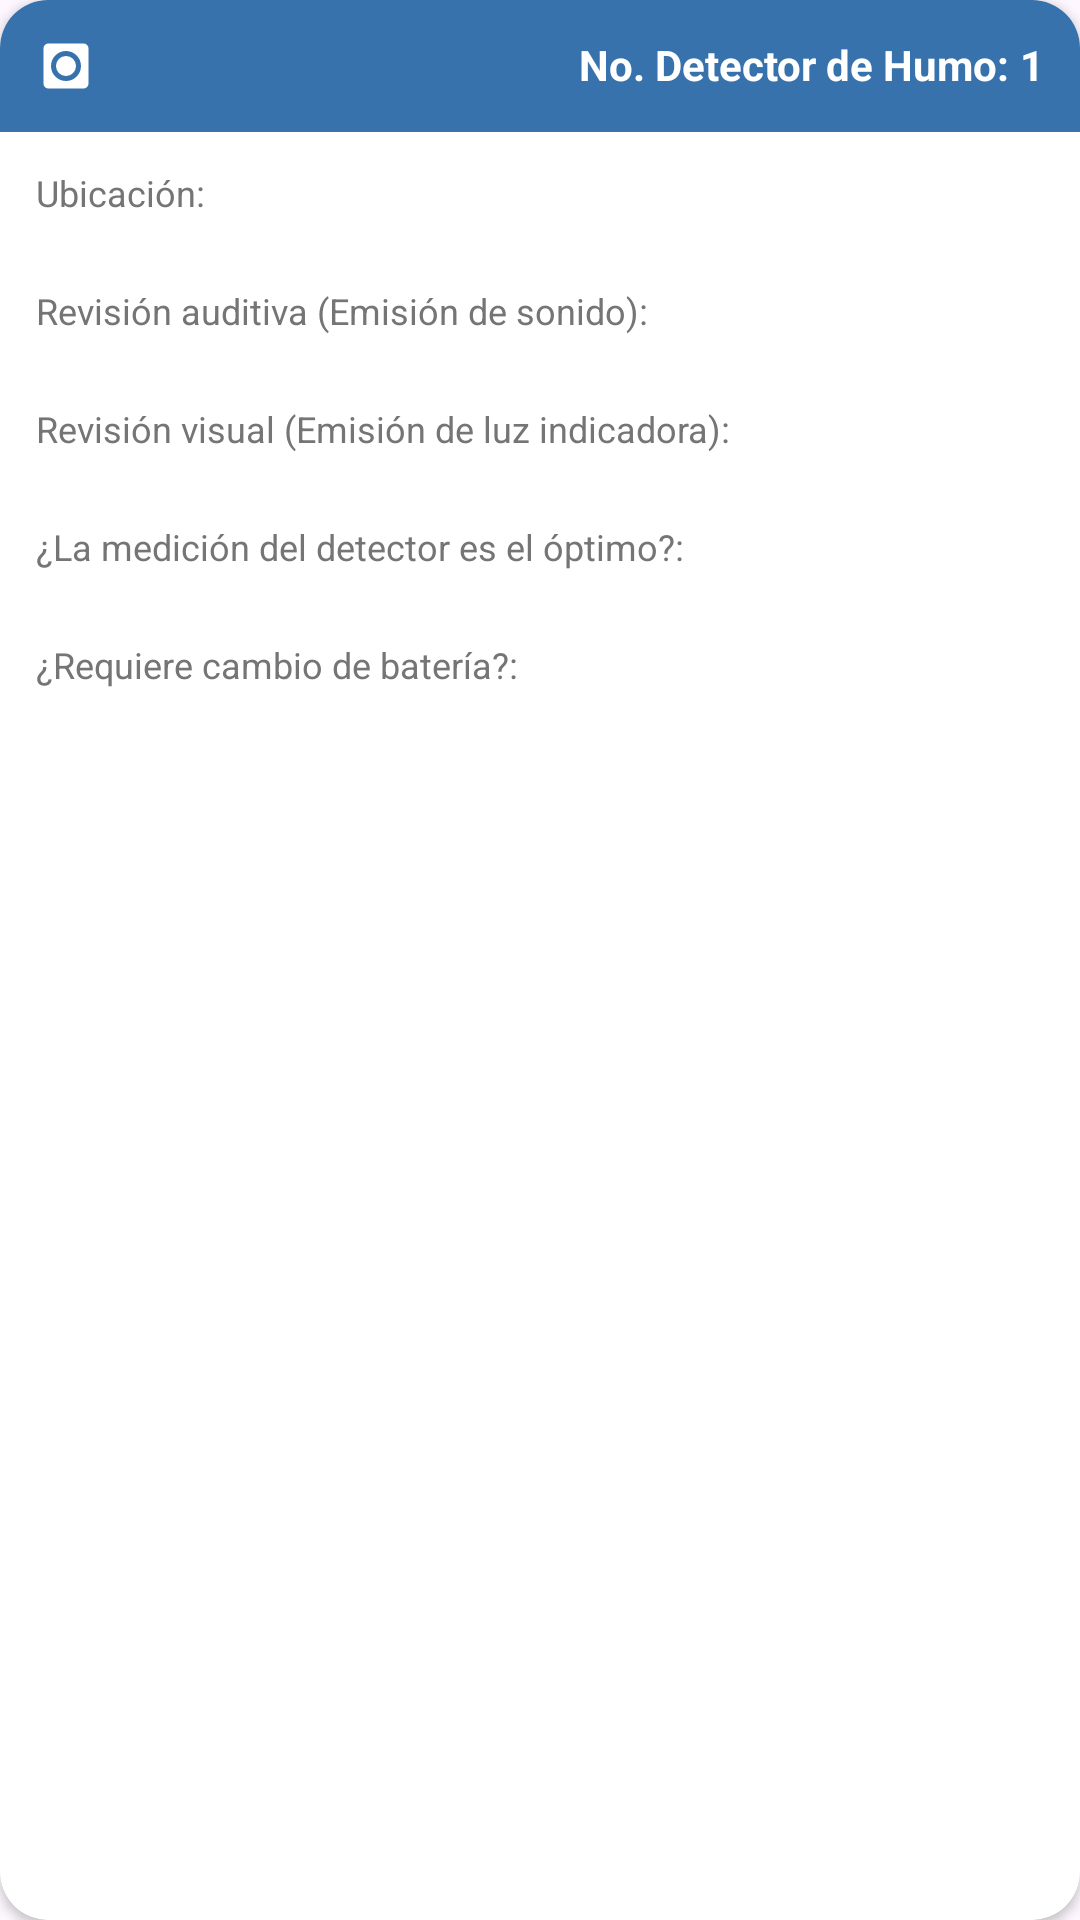

Point at icon controls on the screen. Image size 1080*1920, points as point (x, y).
detector humo: point (66, 66)
